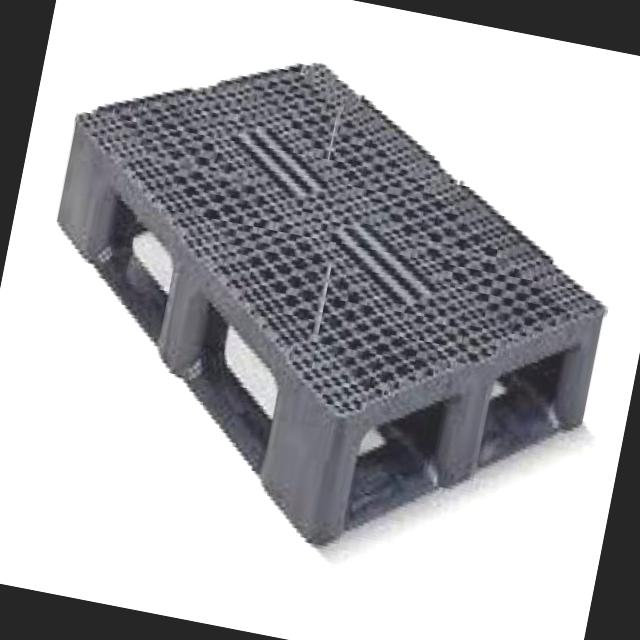pallet: (51, 50, 621, 553)
